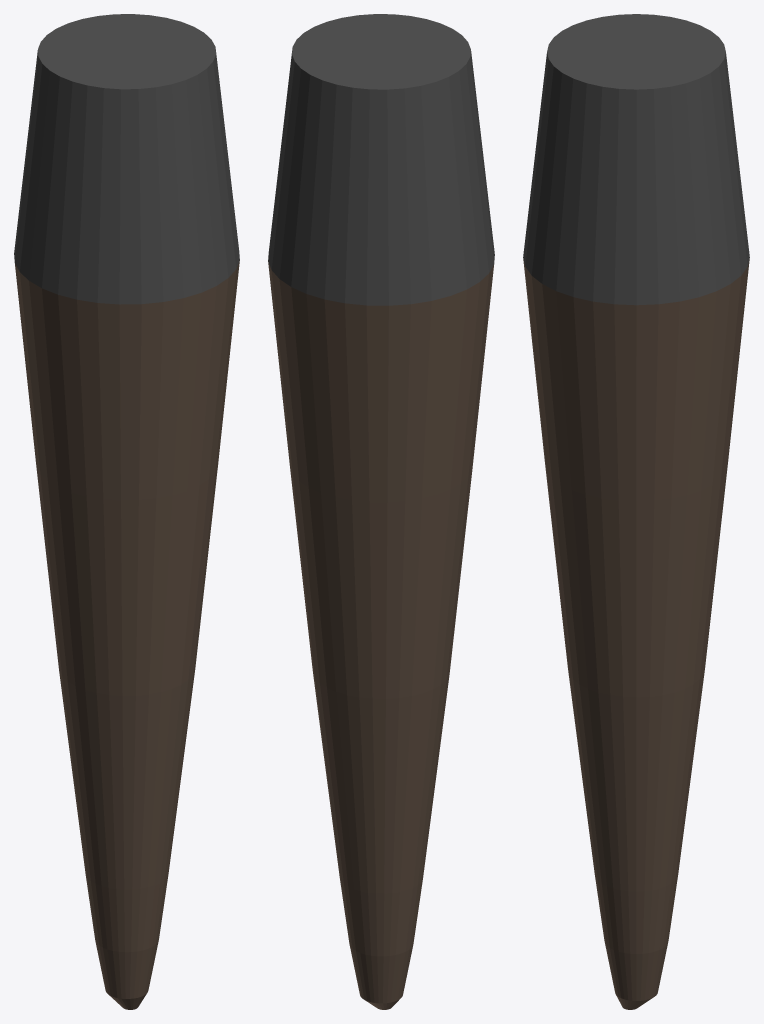
File: torches.fbx
The picture shows the model from 3 angles, left to right: view 1: azimuth 30°, elevation 25°; view 2: azimuth 150°, elevation 25°; view 3: azimuth 270°, elevation 25°; orthographic projection.
Parts seen in each view (by area): view 1: Cylinder; view 2: Cylinder; view 3: Cylinder.
Boxes of the visible parts, x1,y1,x2,y2 form: Cylinder: (14, 14, 239, 1009); Cylinder: (268, 14, 494, 1009); Cylinder: (523, 14, 749, 1009).
Size of the model in its own units: 40 by 186 by 40.
